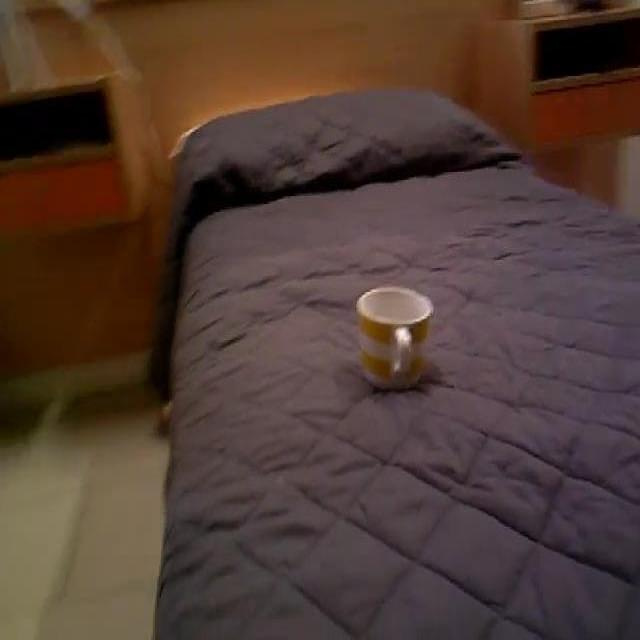cup: (354, 283, 437, 398)
